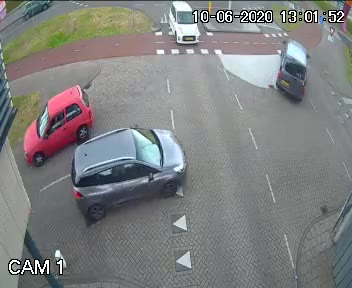car: (69, 125, 189, 233), (15, 79, 103, 168), (271, 35, 312, 99), (163, 0, 197, 49), (18, 0, 47, 20)
